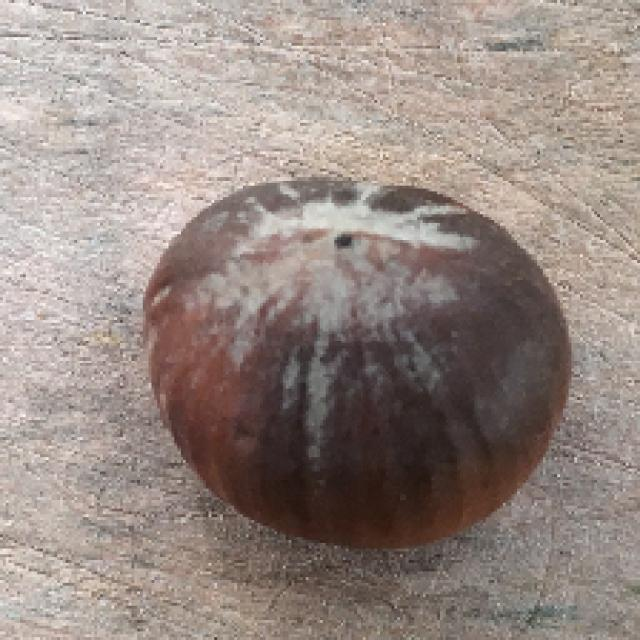damagedHazelnut: (133, 158, 586, 553)
